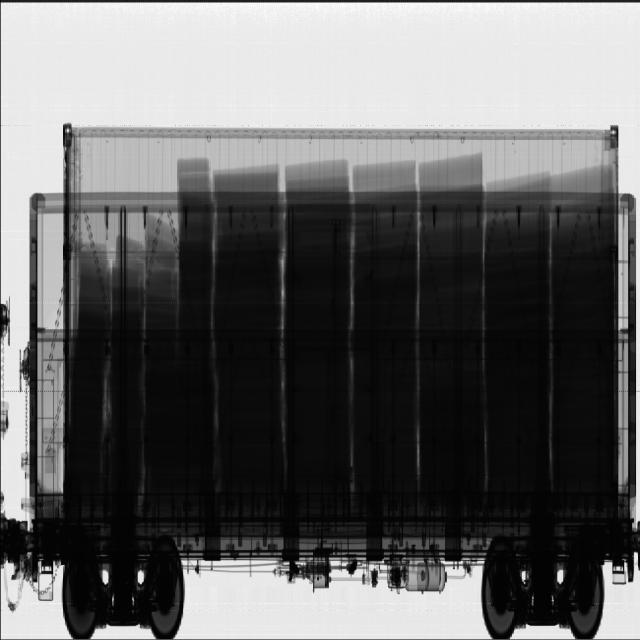fabrics: (62, 152, 612, 509)
